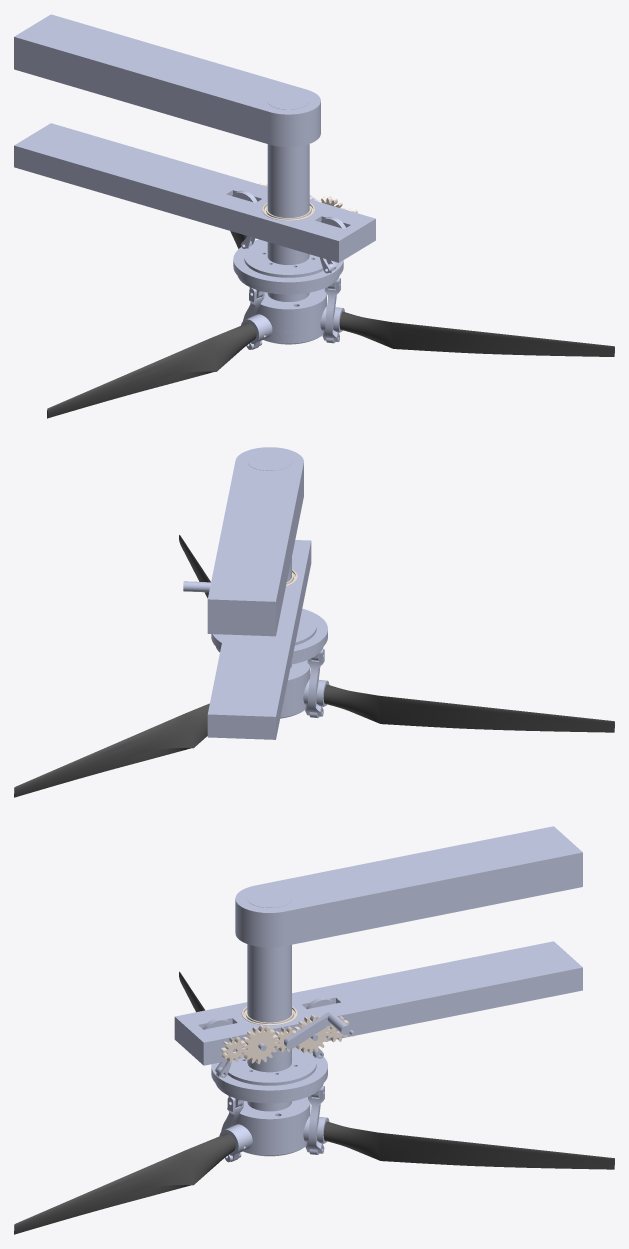
The model's file is AssemblyGLB.glb.
The picture shows the model from 3 angles, top to bottom: view 1: azimuth 30°, elevation 25°; view 2: azimuth 150°, elevation 25°; view 3: azimuth 270°, elevation 25°; orthographic projection. The views are drawn at different scales.
Parts seen in each view (by area): view 1: Support Beam-1, Support Beam Bearing-1, wind turbine blade-2, wind turbine blade-3, Shaft 35mm-1, Hub-Bottom-1, Thrust Bearing Inner Hollow-1, Thrust Bearing Outer Top Above-1, Hub-Top-1, Blade Linkage-3, Thrust Bearing Outer Top Below-1; view 2: Support Beam-1, Support Beam Bearing-1, wind turbine blade-3, wind turbine blade-1, Thrust Bearing Inner Hollow-1, Hub-Bottom-1, Shaft 35mm-1, Blade Linkage-2, Thrust Bearing Outer Top Above-1; view 3: Support Beam-1, Support Beam Bearing-1, wind turbine blade-1, wind turbine blade-2, Shaft 35mm-1, Hub-Bottom-1, Thrust Bearing Inner Hollow-1, Thrust Bearing Outer Top Above-1, spur gear_am-8, Linear Handle-3, Hub-Top-1, Blade Linkage-1 (+3 smaller).
Part boxes in pixels (box(x1,y1,x2,y2)): Support Beam-1: box(14, 14, 320, 147); Support Beam Bearing-1: box(14, 123, 375, 262); wind turbine blade-2: box(339, 311, 614, 356); wind turbine blade-3: box(47, 323, 256, 418); Shaft 35mm-1: box(267, 92, 309, 301); Hub-Bottom-1: box(250, 288, 326, 331); Thrust Bearing Inner Hollow-1: box(233, 239, 343, 289); Thrust Bearing Outer Top Above-1: box(244, 240, 326, 277); Hub-Top-1: box(263, 324, 323, 344); Blade Linkage-3: box(322, 278, 340, 341); Thrust Bearing Outer Top Below-1: box(237, 275, 339, 298); Support Beam-1: box(207, 447, 303, 636); Support Beam Bearing-1: box(207, 540, 311, 739); wind turbine blade-3: box(323, 684, 614, 732); wind turbine blade-1: box(14, 703, 209, 797); Thrust Bearing Inner Hollow-1: box(211, 608, 327, 659); Hub-Bottom-1: box(283, 660, 310, 704); Shaft 35mm-1: box(247, 452, 291, 667); Blade Linkage-2: box(305, 649, 324, 716); Thrust Bearing Outer Top Above-1: box(295, 611, 316, 645); Support Beam-1: box(235, 826, 582, 947); Support Beam Bearing-1: box(174, 941, 582, 1065); wind turbine blade-1: box(323, 1121, 614, 1169); wind turbine blade-2: box(14, 1133, 235, 1234); Shaft 35mm-1: box(247, 889, 291, 1111); Hub-Bottom-1: box(233, 1097, 310, 1142); Thrust Bearing Inner Hollow-1: box(211, 1051, 327, 1098); Thrust Bearing Outer Top Above-1: box(227, 1047, 316, 1085); spur gear_am-8: box(242, 1025, 278, 1064); Linear Handle-3: box(284, 1011, 350, 1049); Hub-Top-1: box(243, 1135, 306, 1156); Blade Linkage-1: box(305, 1086, 324, 1153).
Size of the model in its own units: 0.4715 by 0.22 by 0.4734.
